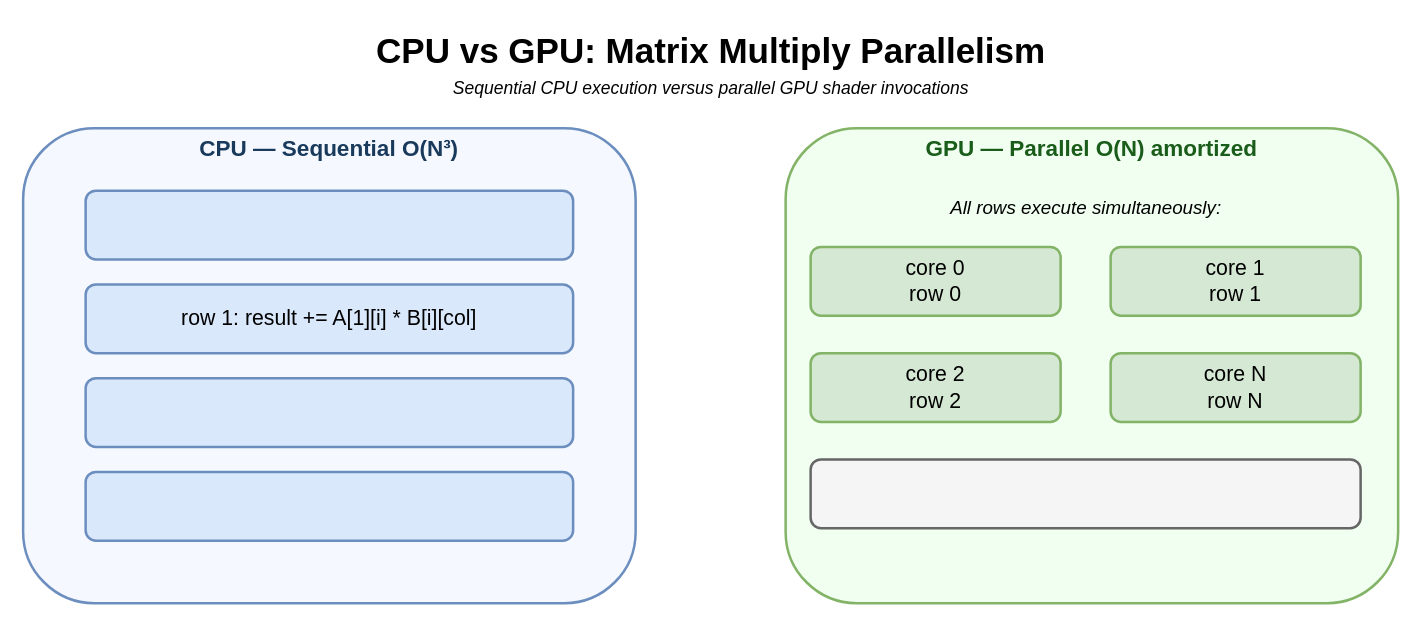
Image size: 1420x625. Some labels were removed from this diagram. The shapes that lost their labels are listed below. From the top down, each one's centre as x and y in pixels, then its label:
At pixel 329 224: "row 0: result += A[0][i] * B[i][col]".
At pixel 329 412: "row 2: result += A[2][i] * B[i][col]".
At pixel 329 505: "... row N".
At pixel 1085 493: "O(N) amortized — hundreds of TFLOPS".
